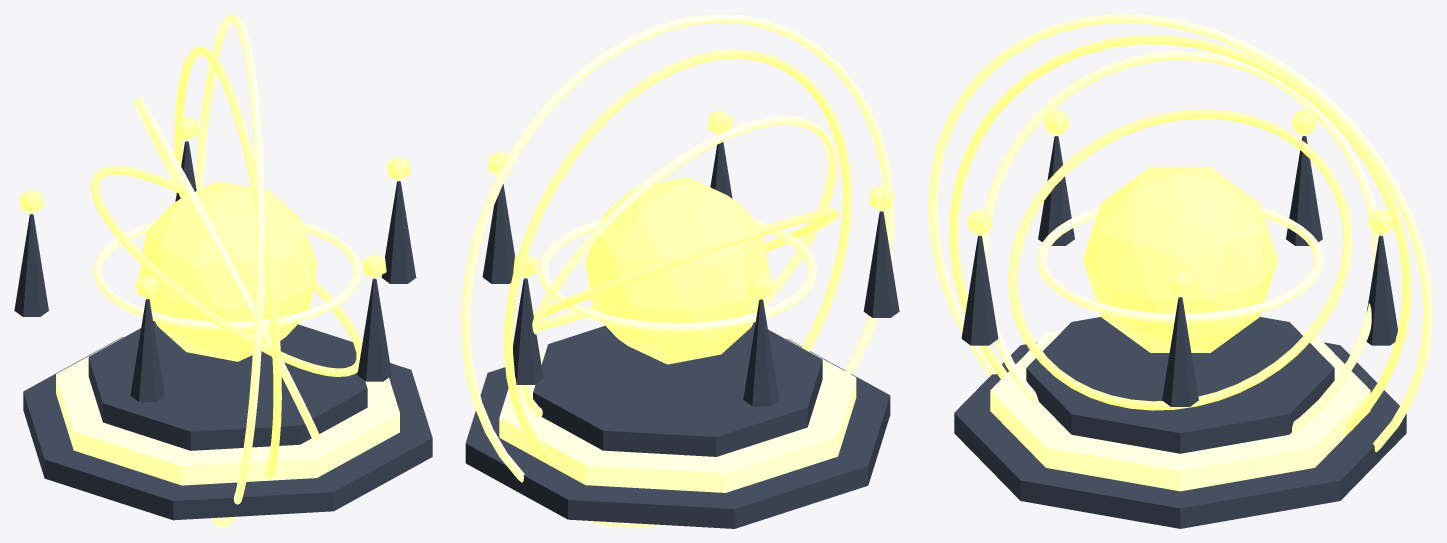
File: gpu-blender-v23.glb
The picture shows the model from 3 angles, left to right: view 1: azimuth 30°, elevation 25°; view 2: azimuth 150°, elevation 25°; view 3: azimuth 270°, elevation 25°; orthographic projection. The views are drawn at different scales.
Parts seen in each view (by area): view 1: Cylinder.002, Cylinder, SovereignCore_yara-sigma-forge, Cylinder.001, Torus.004, Torus.003, Torus.001, Torus, Torus.002, Cone.004, Cone.002, Cone.003 (+1 smaller); view 2: Cylinder.002, SovereignCore_yara-sigma-forge, Cylinder, Cylinder.001, Torus.004, Torus.003, Torus.002, Torus, Torus.001, Cone.002, Cone.003, Cone (+2 smaller); view 3: SovereignCore_yara-sigma-forge, Cylinder.002, Cylinder, Cylinder.001, Torus.004, Torus.001, Torus.003, Torus.002, Torus, Cone.004, Cone, Cone.001 (+2 smaller).
Boxes of the visible parts, left/top/right/bottom form: Cylinder.002: left=88, top=321, right=367, bottom=450; Cylinder: left=23, top=337, right=432, bottom=520; SovereignCore_yara-sigma-forge: left=138, top=181, right=317, bottom=361; Cylinder.001: left=56, top=328, right=399, bottom=485; Torus.004: left=195, top=14, right=264, bottom=528; Torus.003: left=174, top=46, right=281, bottom=478; Torus.001: left=91, top=166, right=362, bottom=376; Torus: left=93, top=221, right=362, bottom=330; Torus.002: left=134, top=97, right=320, bottom=440; Cone.004: left=357, top=278, right=391, bottom=381; Cone.002: left=14, top=214, right=48, bottom=316; Cone.003: left=130, top=299, right=164, bottom=401; Cylinder.002: left=533, top=322, right=822, bottom=456; SovereignCore_yara-sigma-forge: left=585, top=177, right=770, bottom=364; Cylinder: left=465, top=338, right=890, bottom=528; Cylinder.001: left=499, top=330, right=856, bottom=492; Torus.004: left=461, top=14, right=894, bottom=527; Torus.003: left=504, top=49, right=851, bottom=463; Torus.002: left=519, top=116, right=836, bottom=417; Torus: left=538, top=219, right=817, bottom=332; Torus.001: left=533, top=208, right=838, bottom=330; Cone.002: left=743, top=299, right=778, bottom=406; Cone.003: left=863, top=211, right=899, bottom=317; Cone: left=482, top=184, right=514, bottom=283; SovereignCore_yara-sigma-forge: left=1083, top=167, right=1277, bottom=352; Cylinder.002: left=1026, top=317, right=1334, bottom=453; Cylinder: left=954, top=342, right=1406, bottom=528; Cylinder.001: left=990, top=330, right=1370, bottom=491; Torus.004: left=928, top=14, right=1432, bottom=452; Torus.001: left=1008, top=109, right=1352, bottom=410; Torus.003: left=949, top=35, right=1411, bottom=434; Torus.002: left=980, top=50, right=1380, bottom=433; Torus: left=1037, top=207, right=1323, bottom=322; Cone.004: left=961, top=235, right=998, bottom=345; Cone: left=1162, top=297, right=1198, bottom=406; Cone.001: left=1366, top=235, right=1397, bottom=345.
Bounding box in the file's own units: 4.41 × 5.33 × 4.9.
